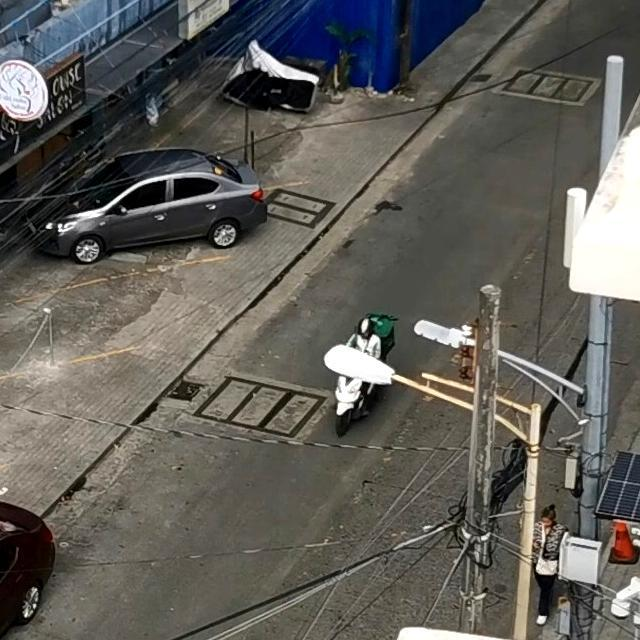Motorcycle: (296, 288, 404, 438)
